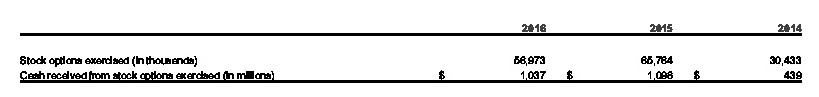table: (0, 0, 819, 97)
